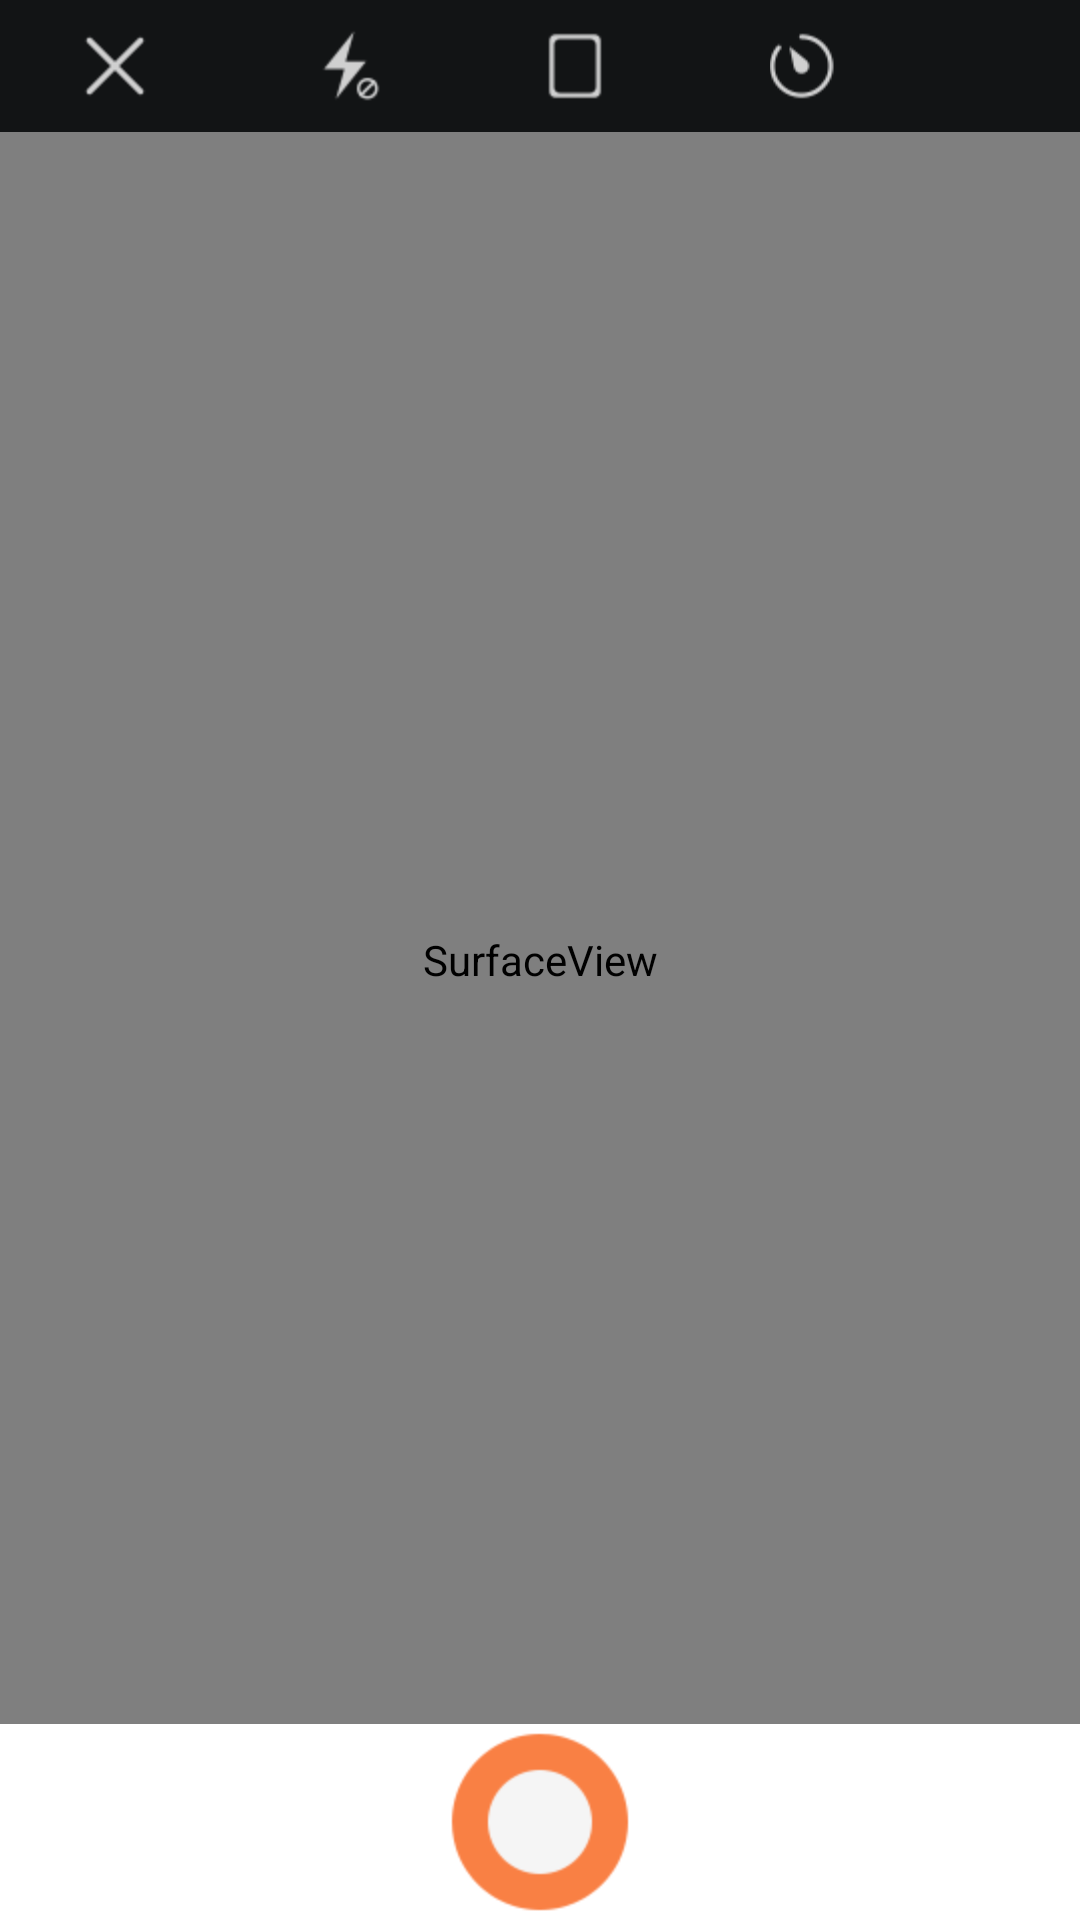

Screen size 1080*1920. Icon name, then its box in pixels as (x1, y1, x2, y2):
camera close: (86, 37, 144, 95)
camera size: (548, 33, 602, 99)
camera timing: (770, 33, 834, 99)
flash: (324, 32, 379, 100)
homepage camera: (451, 1733, 629, 1911)
